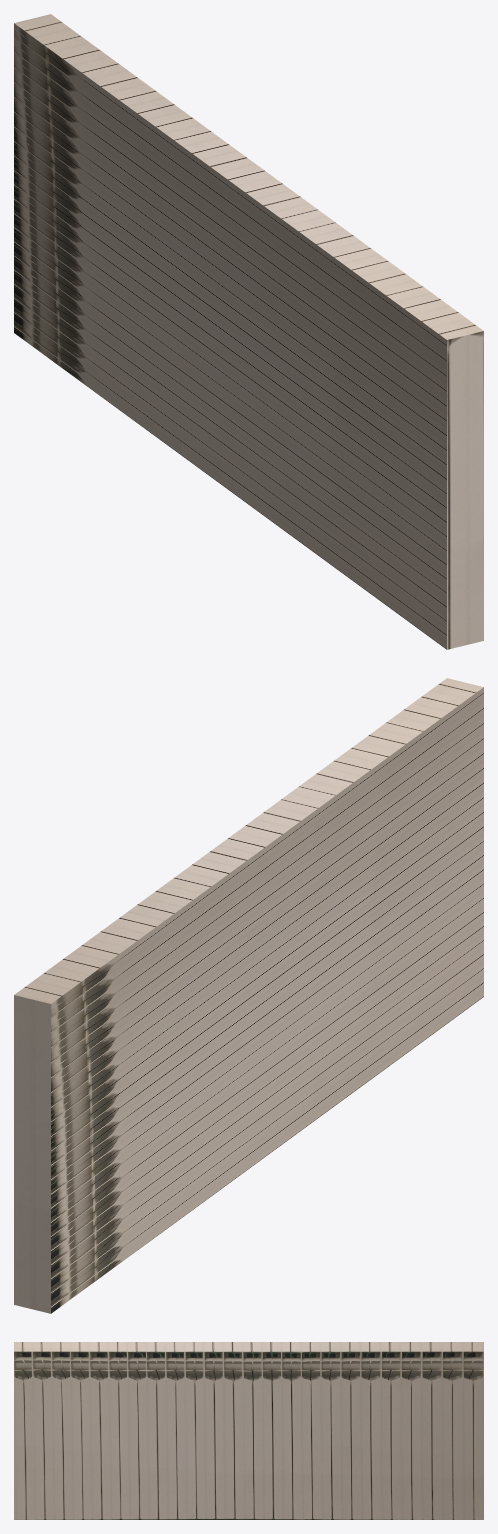
Rendered from Radi_jator.fbx.
The picture shows the model from 3 angles, top to bottom: view 1: azimuth 30°, elevation 25°; view 2: azimuth 150°, elevation 25°; view 3: azimuth 270°, elevation 25°; orthographic projection. The views are drawn at different scales.
Parts seen in each view (by area): view 1: Cube; view 2: Cube; view 3: Cube.
Boxes of the visible parts, x1,y1,x2,y2 form: Cube: (14,14,483,649); Cube: (14,678,483,1313); Cube: (14,1342,483,1519).
Size of the model in its own units: 7.5 by 60 by 152.
Materials: 1 (1 with a texture image).
